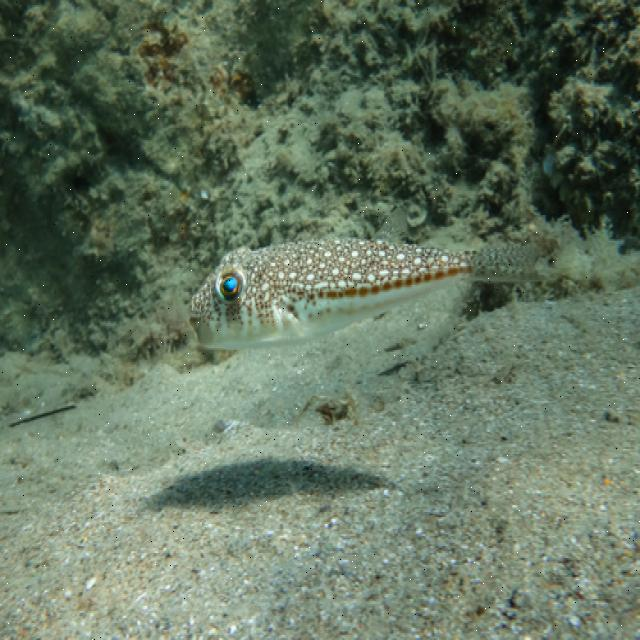Balik: (190, 239, 536, 349)
